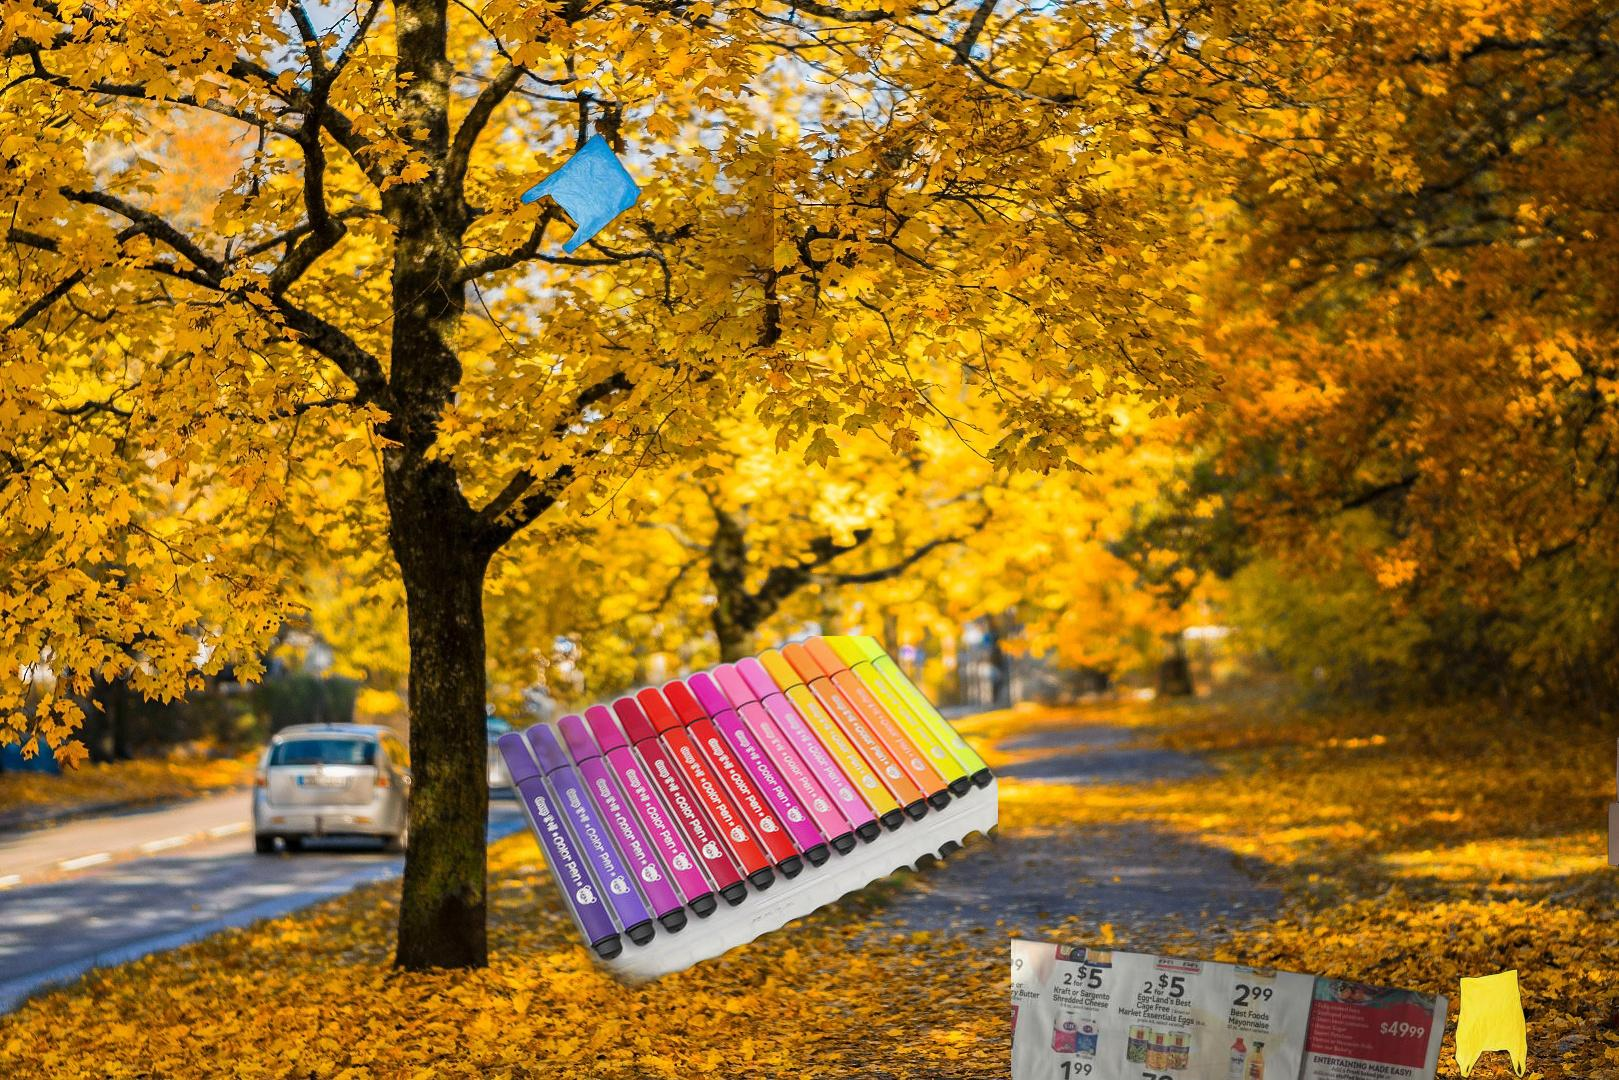paper: (1011, 933, 1454, 1080)
penholder: (498, 636, 998, 1080)
plastic-bag: (517, 86, 774, 353), (1451, 965, 1531, 1079)
trashbox-cardboard: (1606, 729, 1619, 937)
